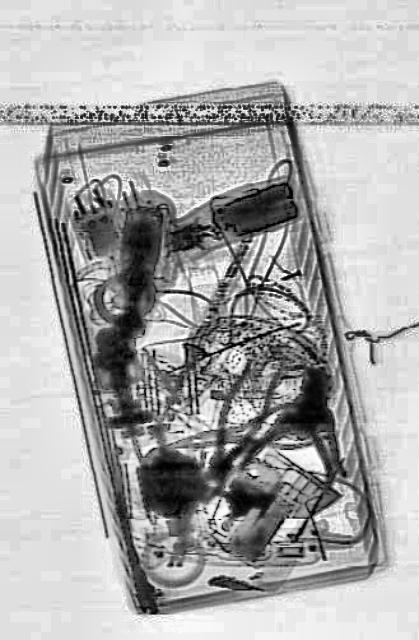Pliers: (191, 337, 286, 497), (167, 396, 328, 468)
